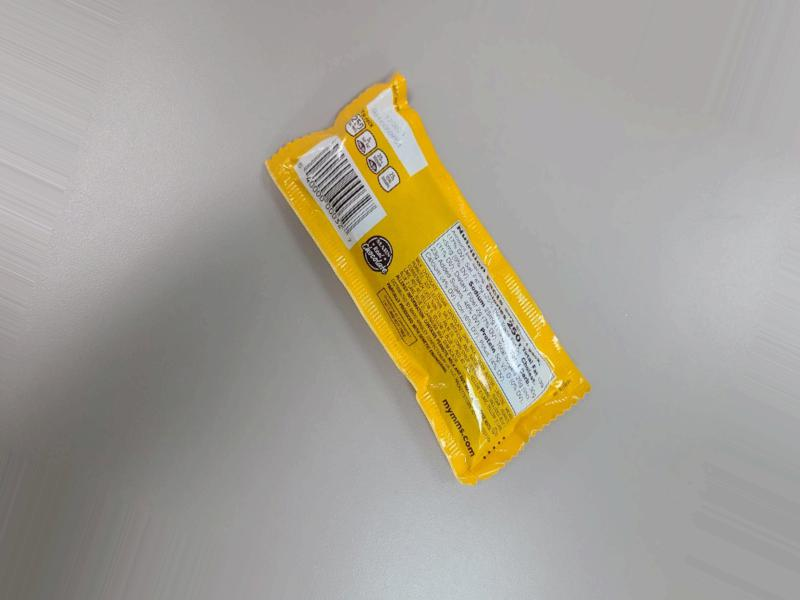m&m: (277, 51, 579, 486)
